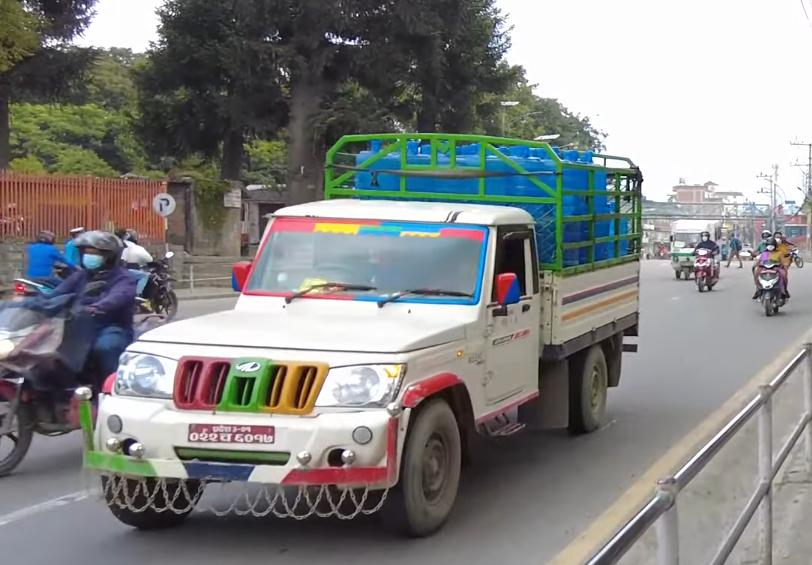bike: (0, 202, 137, 488), (115, 219, 183, 323)
scooter: (749, 230, 794, 327), (690, 233, 724, 293)
tempo: (664, 209, 716, 274)
transport_vehicle: (70, 116, 646, 559)
